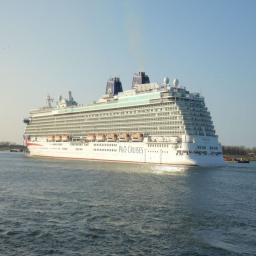cruises: (21, 71, 230, 172)
